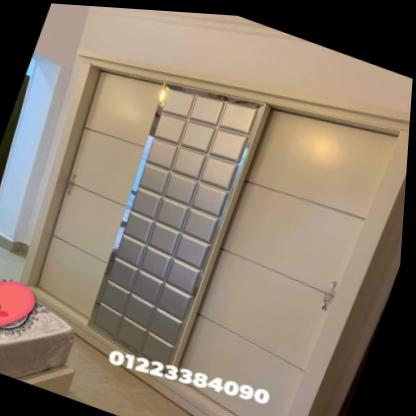Closet: (23, 59, 411, 416)
